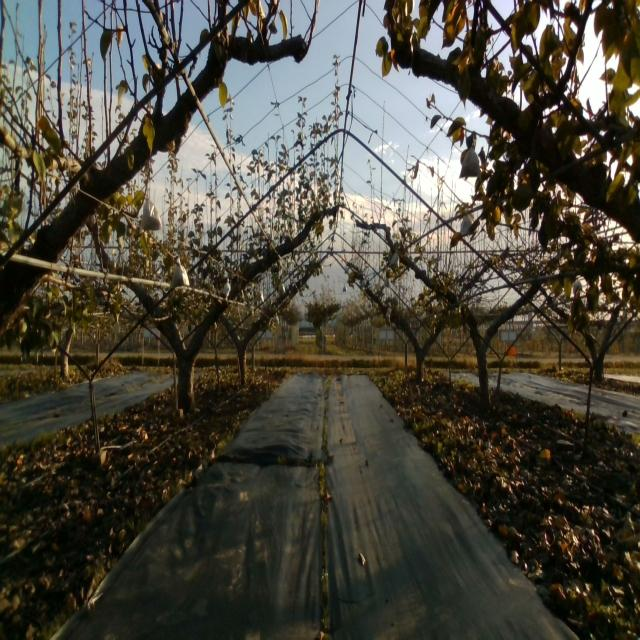pearbags: (458, 136, 481, 178), (138, 197, 164, 231), (169, 256, 190, 288), (460, 216, 473, 236)
